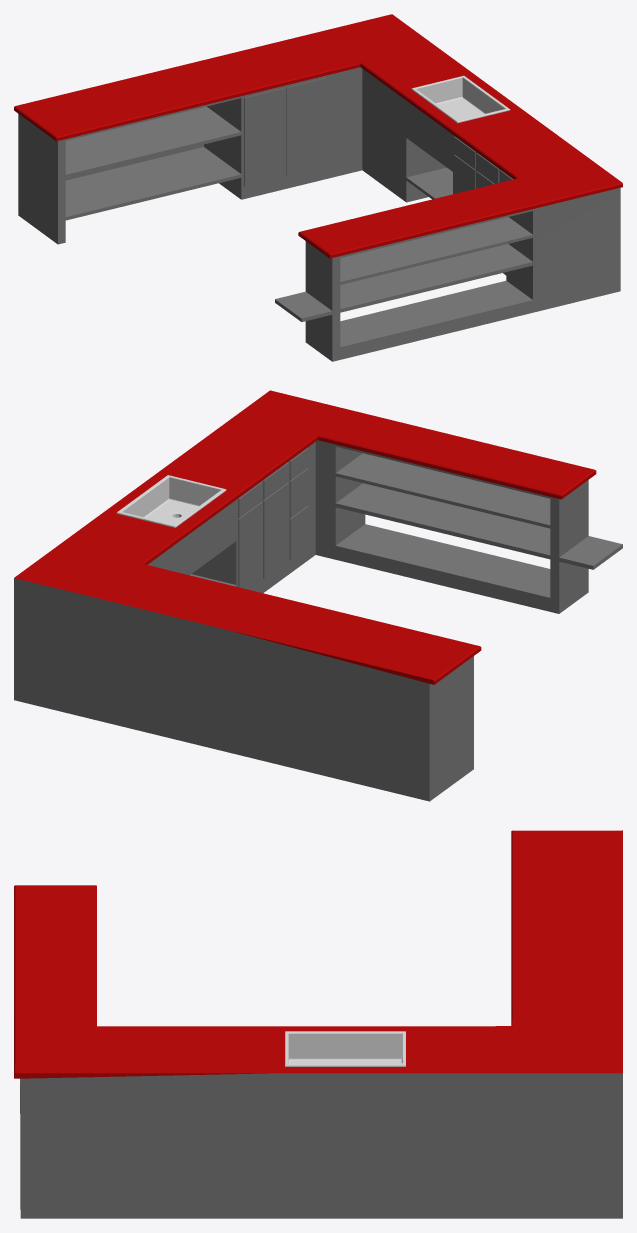
Rendered from counters_2.fbx.
3 renders of one model, top to bottom at view 1: azimuth 30°, elevation 25°; view 2: azimuth 150°, elevation 25°; view 3: azimuth 270°, elevation 25°, orthographic. The views are drawn at different scales.
Parts seen in each view (by area): view 1: kitchen_01; view 2: kitchen_01; view 3: kitchen_01.
Part boxes in pixels (x1=…): kitchen_01: x1=14, y1=14, x2=622, y2=361; kitchen_01: x1=14, y1=390, x2=622, y2=801; kitchen_01: x1=14, y1=830, x2=622, y2=1218.
Bounding box in the file's own units: 896 × 252 × 948.
